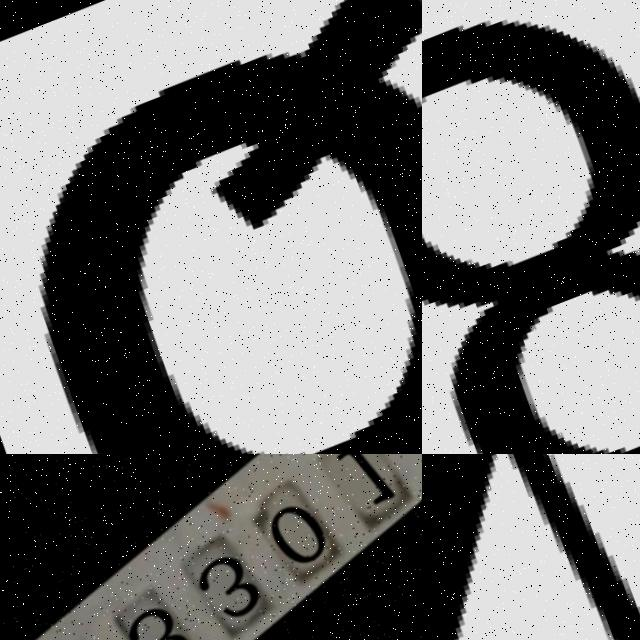0: (237, 475, 355, 604)
1: (304, 454, 422, 546)
3: (169, 527, 287, 640), (97, 576, 218, 640)
8: (422, 0, 640, 454)
N: (422, 454, 640, 640)
Q: (0, 0, 422, 454)
